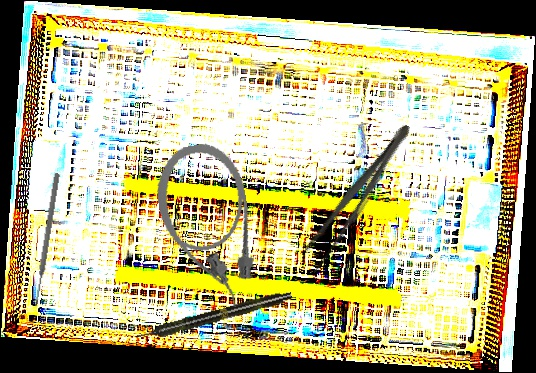Cannula: (149, 138, 265, 317)
Dressing Forceps: (295, 116, 419, 277)
Handpiece: (134, 288, 294, 344)
Pusher: (31, 172, 62, 308)
